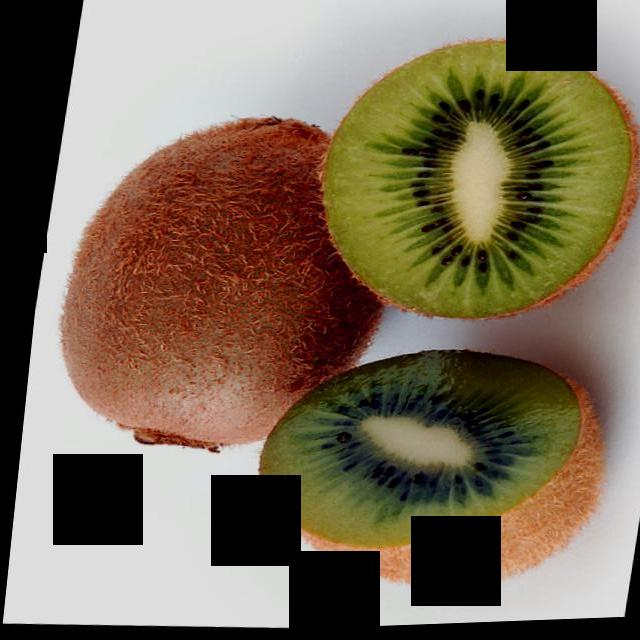kiwi: (28, 106, 401, 477)
